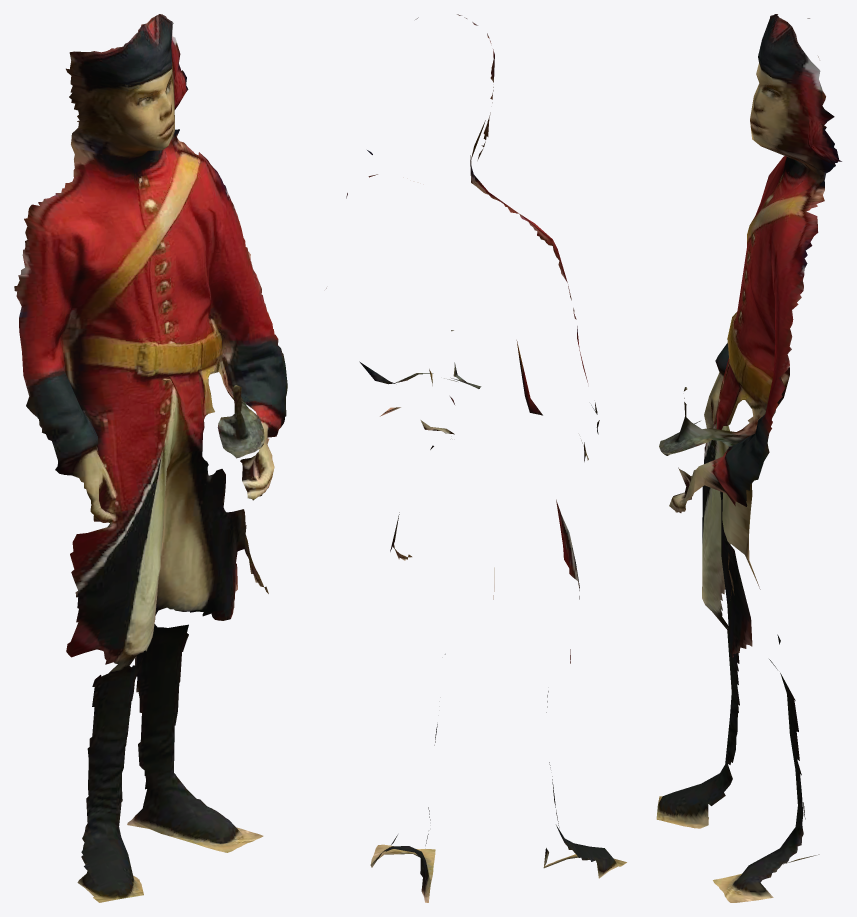
The model's file is Mannequinn_Red.glb.
3 views of the same model, side by side, from view 1: azimuth 30°, elevation 25°; view 2: azimuth 150°, elevation 25°; view 3: azimuth 270°, elevation 25° (orthographic). The views are drawn at different scales.
Visible parts, largest first — view 1: Mannequinn_Red_lowPoly; view 2: Mannequinn_Red_lowPoly; view 3: Mannequinn_Red_lowPoly.
Boxes of the visible parts, bbox=[...] form: Mannequinn_Red_lowPoly: bbox=[14, 14, 287, 902]; Mannequinn_Red_lowPoly: bbox=[326, 14, 626, 902]; Mannequinn_Red_lowPoly: bbox=[656, 14, 841, 902].
Bounding box in the file's own units: 0.3845 × 1.16 × 0.2326.
Materials: 1 (1 with a texture image).
